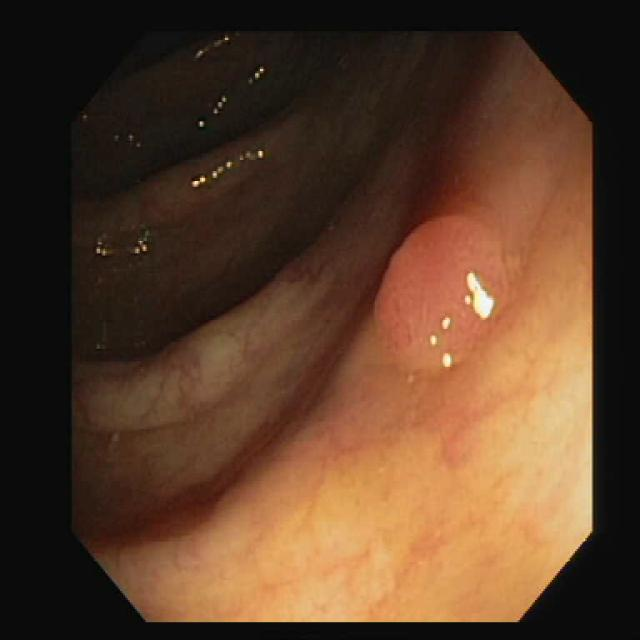tumor: (375, 216, 507, 367)
